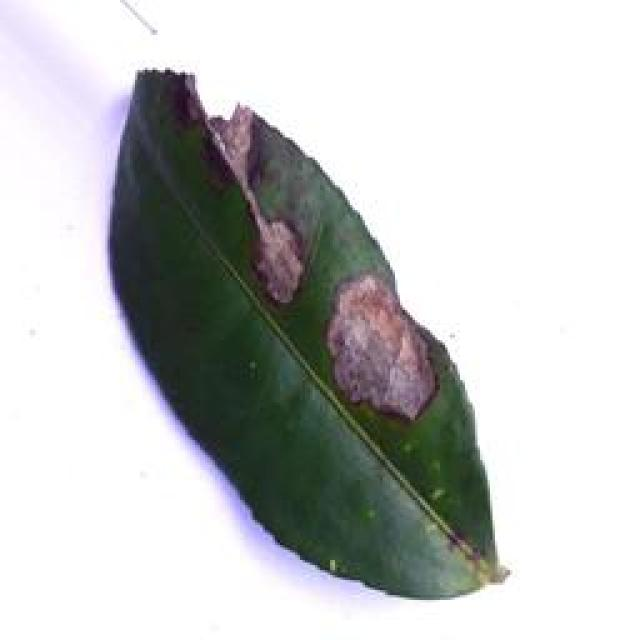Gray Blight: (105, 59, 508, 600)
